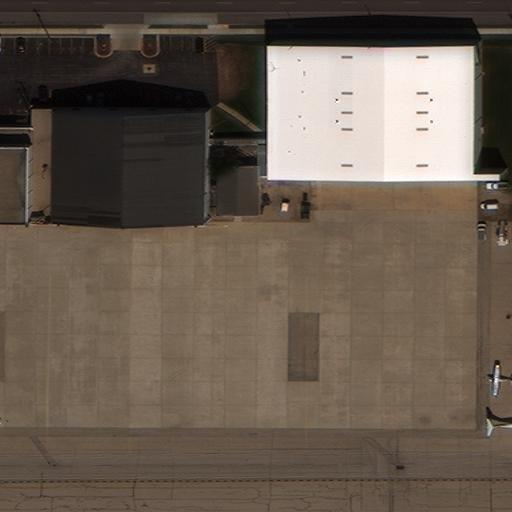Medium Civil Transport: (486, 410, 511, 442)
Small Civil Transport: (487, 365, 511, 395)
